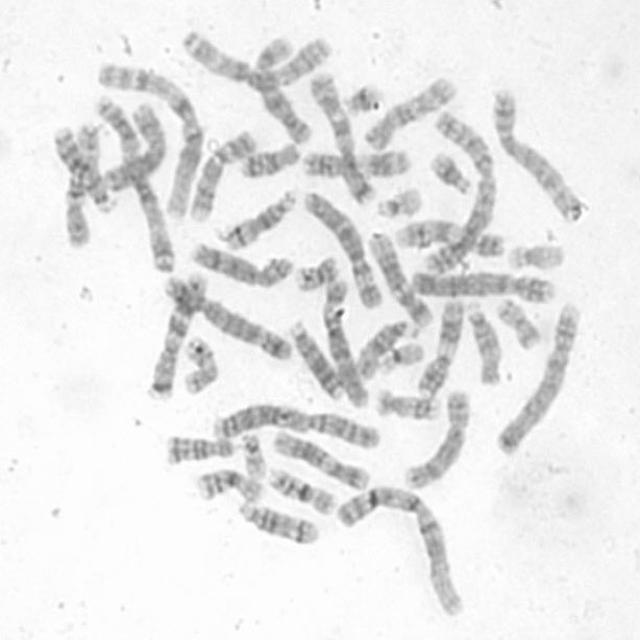A1: (335, 482, 468, 620), (96, 60, 205, 220)
A2: (419, 108, 499, 279), (210, 401, 382, 451)
A3: (96, 93, 176, 275), (180, 26, 337, 92)
B4: (493, 300, 582, 456), (408, 265, 556, 306)
B5: (491, 87, 590, 225), (161, 273, 293, 362)
C10: (362, 74, 458, 152), (63, 119, 100, 249)
C11: (415, 298, 466, 398), (299, 147, 413, 180)
C12: (367, 228, 437, 328), (271, 428, 372, 492)
C6: (301, 188, 384, 312), (320, 276, 372, 412)
C7: (306, 70, 378, 208), (145, 268, 209, 402)
C8: (401, 389, 471, 491), (189, 240, 296, 290)
C9: (185, 126, 258, 224), (394, 218, 509, 258)
D13: (52, 122, 121, 216), (287, 316, 348, 402)
D14: (224, 188, 297, 252), (239, 499, 320, 546)
D15: (354, 317, 420, 384), (466, 298, 504, 388)
E16: (265, 464, 339, 518), (195, 466, 264, 504)
E17: (180, 333, 220, 398), (375, 385, 442, 422)
E18: (164, 432, 237, 466), (239, 140, 301, 180)
F19: (376, 338, 426, 376), (504, 242, 566, 272)
F20: (493, 295, 544, 351), (294, 254, 342, 292)
G21: (428, 149, 474, 199), (343, 80, 386, 117)
G22: (374, 184, 424, 222), (239, 431, 270, 483)
X: (249, 32, 315, 148), (102, 101, 168, 194)
